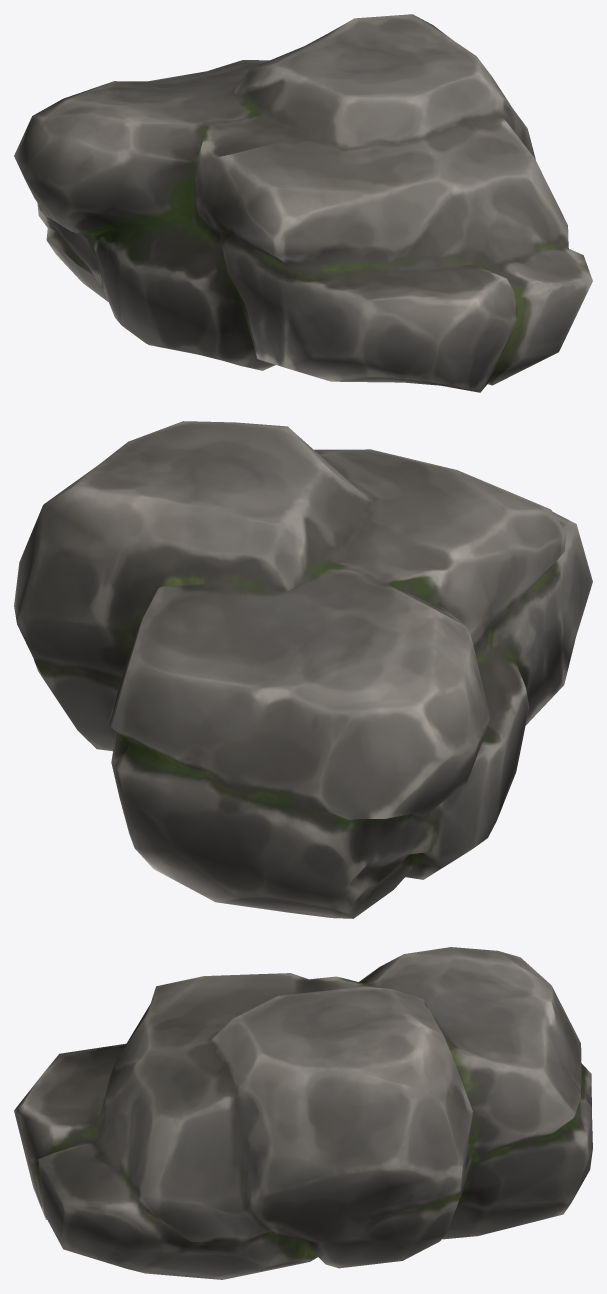
File: Rock_Medium.fbx
3 views of the same model, one above another, from view 1: azimuth 30°, elevation 25°; view 2: azimuth 150°, elevation 25°; view 3: azimuth 270°, elevation 25° (orthographic). The views are drawn at different scales.
Visible parts, largest first — view 1: Rock_Medium; view 2: Rock_Medium; view 3: Rock_Medium.
Part boxes in pixels (box(x1,y1,x2,y2)): Rock_Medium: box(14, 14, 592, 392); Rock_Medium: box(14, 421, 592, 918); Rock_Medium: box(14, 947, 592, 1279).
Bounding box in the file's own units: 25.62 × 15.65 × 30.95.
